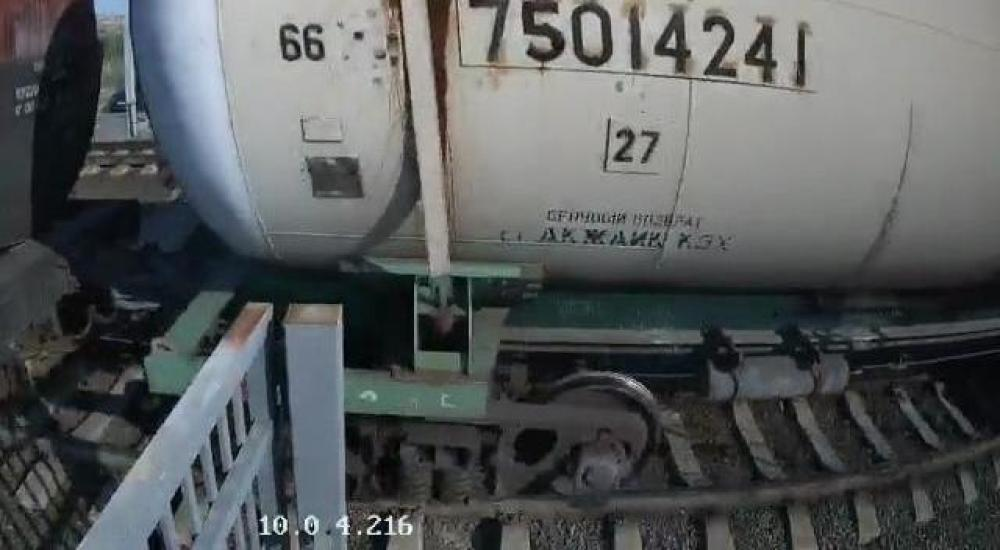Wagon-number: (463, 0, 815, 87)
